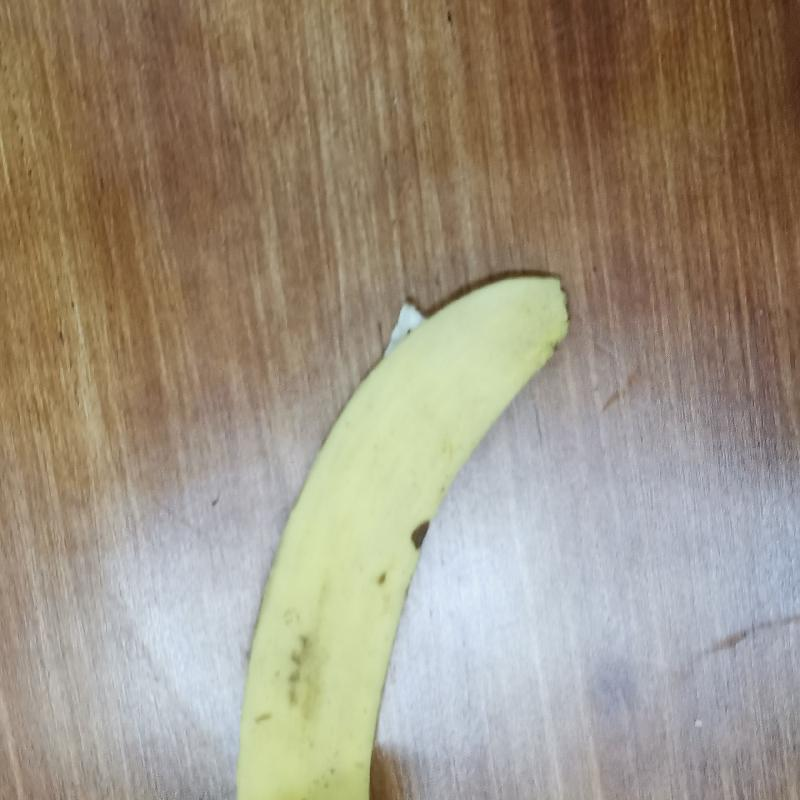bananas: (225, 275, 609, 800)
